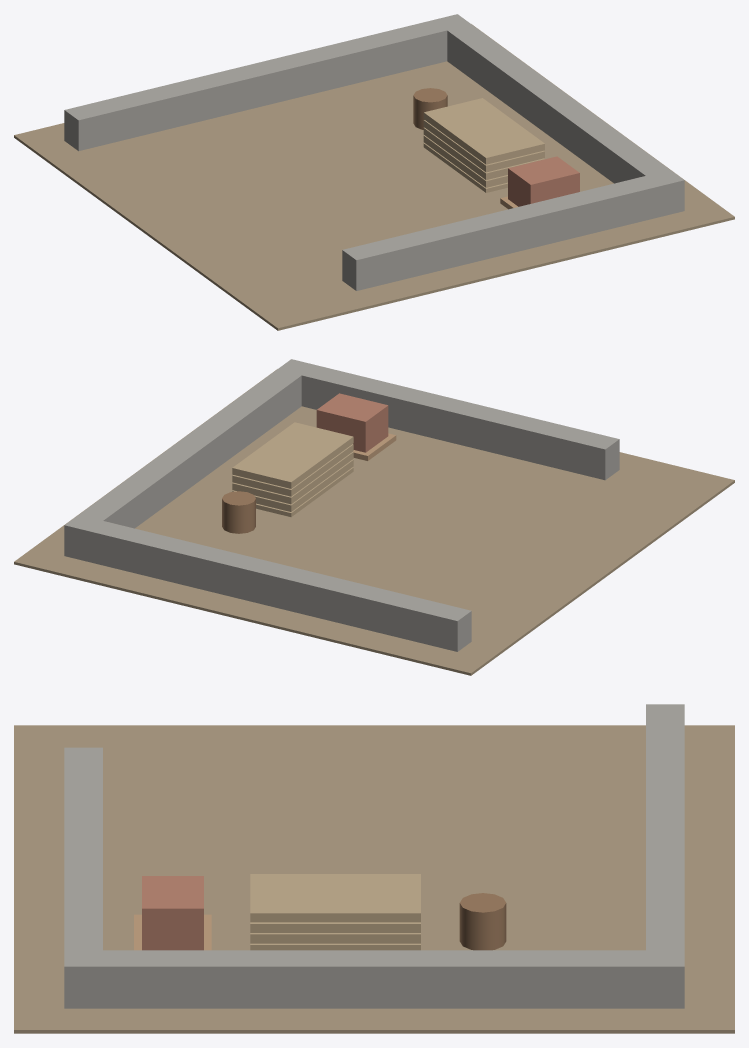
The model's file is orchard_site_2.glb.
The picture shows the model from 3 angles, top to bottom: view 1: azimuth 30°, elevation 25°; view 2: azimuth 150°, elevation 25°; view 3: azimuth 270°, elevation 25°; orthographic projection. The views are drawn at different scales.
Parts seen in each view (by area): view 1: body; view 2: body; view 3: body.
Part boxes in pixels (box(x1,y1,x2,y2)): body: box(14, 14, 734, 330); body: box(14, 359, 734, 675); body: box(14, 704, 734, 1033).
Size of the model in its own units: 1.86 by 0.15 by 1.86.
